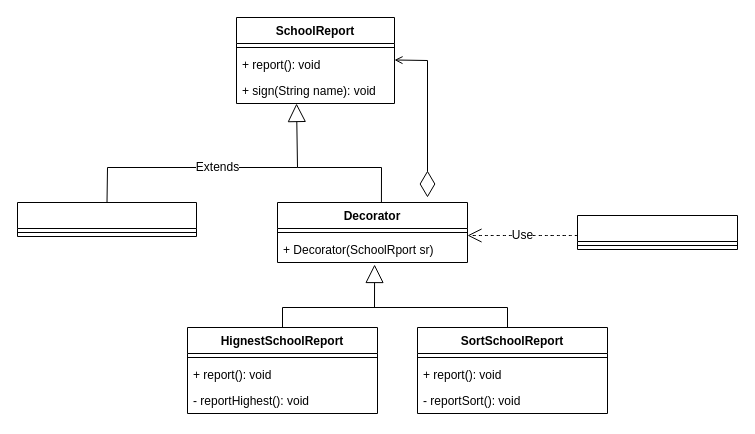
Image size: 755x434. Some labels were removed from this diagram. The centre of each missing label's shape, as x and y in pixels:
Father: the point at 657,232
FourthGradeSchoolReport: the point at 106,219
